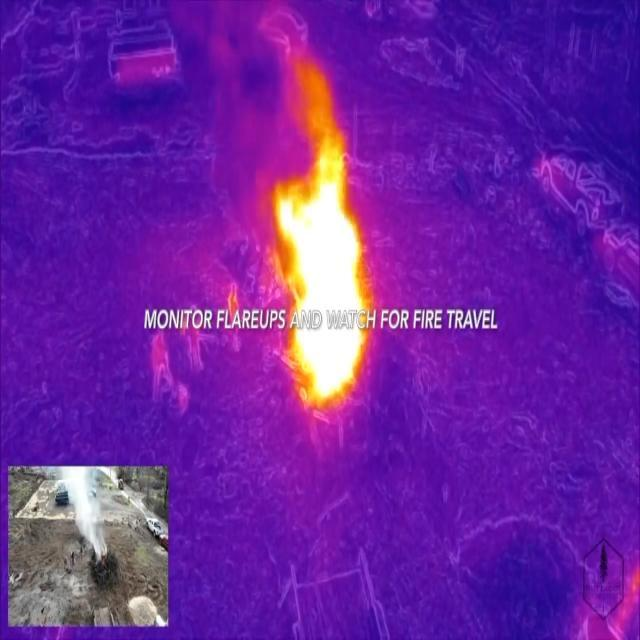fire: (272, 127, 369, 408)
